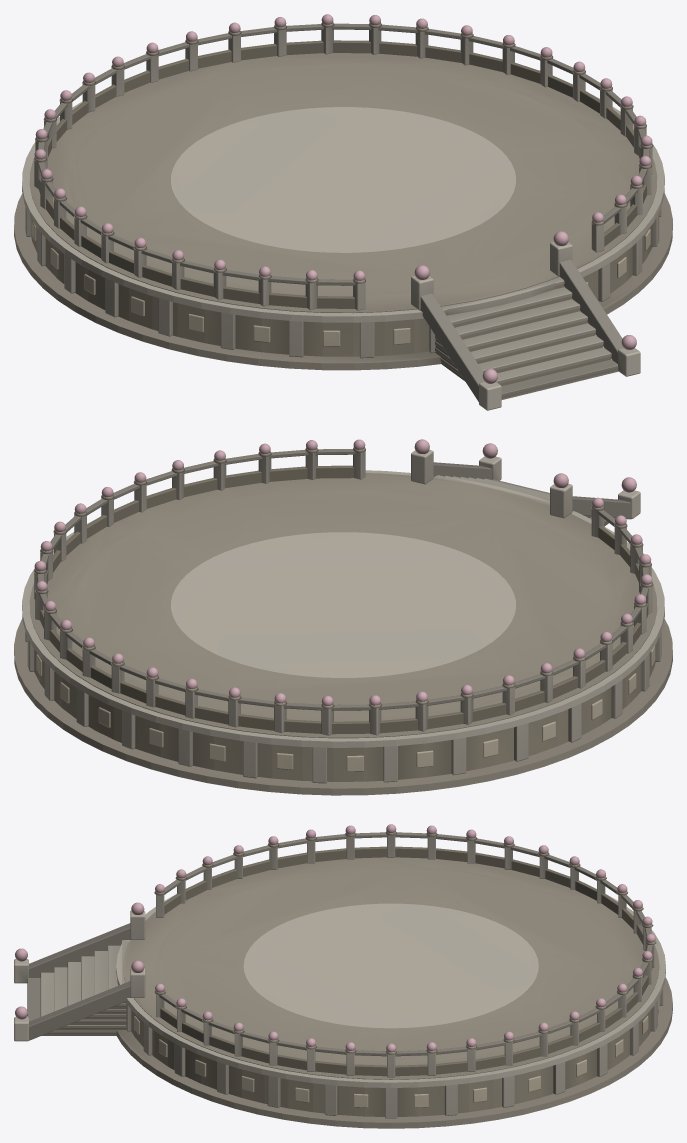
Rendered from boc-dich.glb.
The picture shows the model from 3 angles, top to bottom: view 1: azimuth 30°, elevation 25°; view 2: azimuth 150°, elevation 25°; view 3: azimuth 270°, elevation 25°; orthographic projection. The views are drawn at different scales.
Parts seen in each view (by area): view 1: boc-dich-shell; view 2: boc-dich-shell; view 3: boc-dich-shell.
Part boxes in pixels (x1,y1,x2,y2): boc-dich-shell: (14, 14, 672, 410); boc-dich-shell: (14, 439, 672, 795); boc-dich-shell: (14, 824, 672, 1128).
Size of the model in its own units: 18.9 by 2.88 by 22.1.
